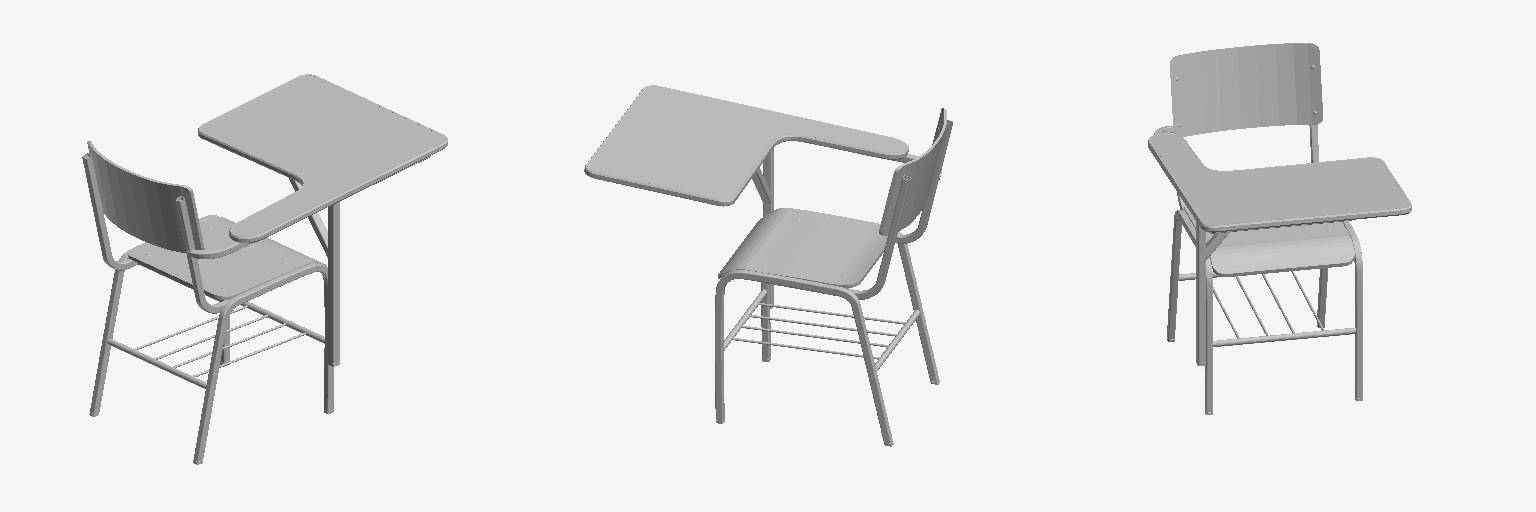
File: School+Chair.obj
The picture shows the model from 3 angles: view 1: azimuth 30°, elevation 25°; view 2: azimuth 150°, elevation 25°; view 3: azimuth 270°, elevation 25°; orthographic projection.
Parts seen in each view (by area): view 1: Shape122, Shape121, Shape123, Loft557, frizo36, Loft547, Loft558, Loft555, Loft546, Loft551, Loft549, Loft556; view 2: Shape122, Shape121, Loft558, frizo36, Shape123, Loft557, Loft555, Loft546, Loft547; view 3: Shape123, Shape122, Shape121, frizo36, Loft557, Loft558, Loft547, Loft556.
Part boxes in pixels (bbox=[...]): Shape122: bbox=[201, 75, 444, 235]; Shape121: bbox=[128, 217, 326, 299]; Shape123: bbox=[87, 141, 204, 252]; Loft557: bbox=[193, 263, 333, 464]; frizo36: bbox=[198, 74, 447, 242]; Loft547: bbox=[328, 202, 339, 366]; Loft558: bbox=[89, 215, 229, 416]; Loft555: bbox=[82, 153, 138, 270]; Loft546: bbox=[176, 196, 228, 313]; Loft551: bbox=[107, 339, 206, 388]; Loft549: bbox=[186, 156, 430, 258]; Loft556: bbox=[241, 302, 324, 343]; Shape122: bbox=[588, 86, 905, 198]; Shape121: bbox=[718, 210, 887, 288]; Loft558: bbox=[715, 270, 893, 446]; frizo36: bbox=[584, 85, 908, 206]; Shape123: bbox=[879, 108, 946, 235]; Loft557: bbox=[761, 208, 939, 384]; Loft555: bbox=[757, 175, 910, 299]; Loft546: bbox=[895, 120, 952, 243]; Loft547: bbox=[763, 148, 773, 308]; Shape123: bbox=[1170, 43, 1322, 136]; Shape122: bbox=[1151, 134, 1408, 224]; Shape121: bbox=[1184, 205, 1354, 276]; frizo36: bbox=[1148, 133, 1411, 232]; Loft557: bbox=[1167, 210, 1212, 414]; Loft558: bbox=[1317, 221, 1362, 400]; Loft547: bbox=[1196, 222, 1205, 365]; Loft556: bbox=[1213, 328, 1355, 346].
Bounding box in the file's own units: 51.93 × 43.87 × 37.76.